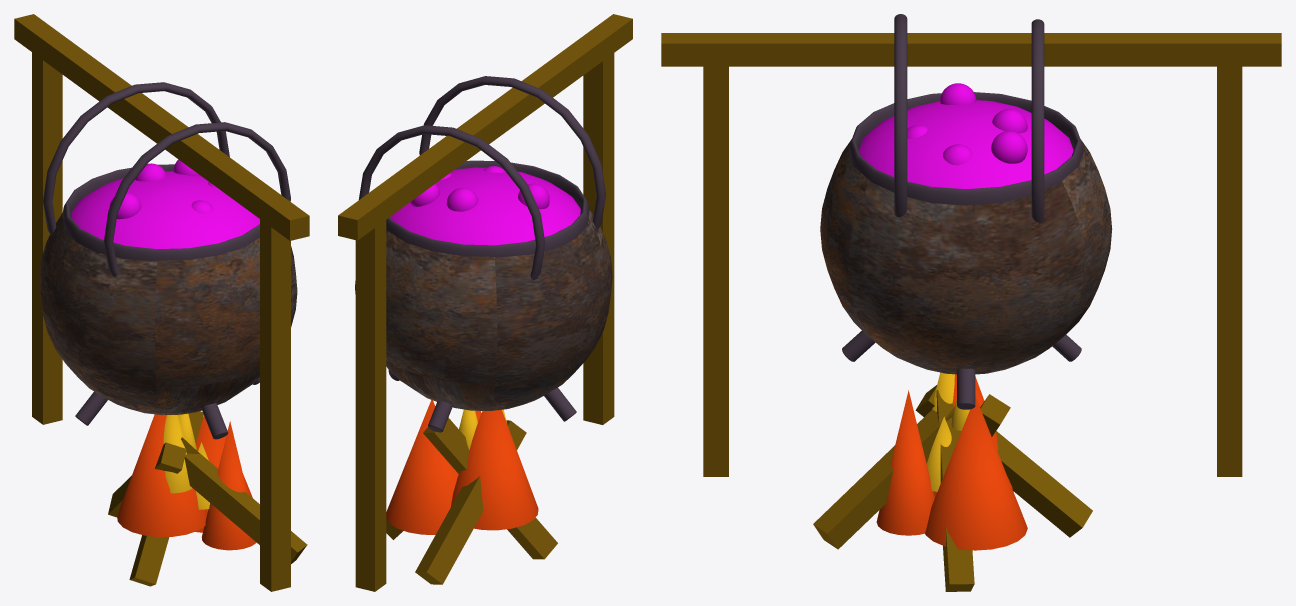
The model's file is UV couldren.fbx.
The picture shows the model from 3 angles, left to right: view 1: azimuth 30°, elevation 25°; view 2: azimuth 150°, elevation 25°; view 3: azimuth 270°, elevation 25°; orthographic projection. The views are drawn at different scales.
Parts seen in each view (by area): view 1: pCone7; view 2: pCone7; view 3: pCone7.
Boxes of the visible parts, left/top/right/bottom form: pCone7: left=14, top=14, right=309, bottom=591; pCone7: left=338, top=14, right=632, bottom=591; pCone7: left=661, top=14, right=1281, bottom=591.
Bounding box in the file's own units: 5.57 × 10.97 × 11.84.
